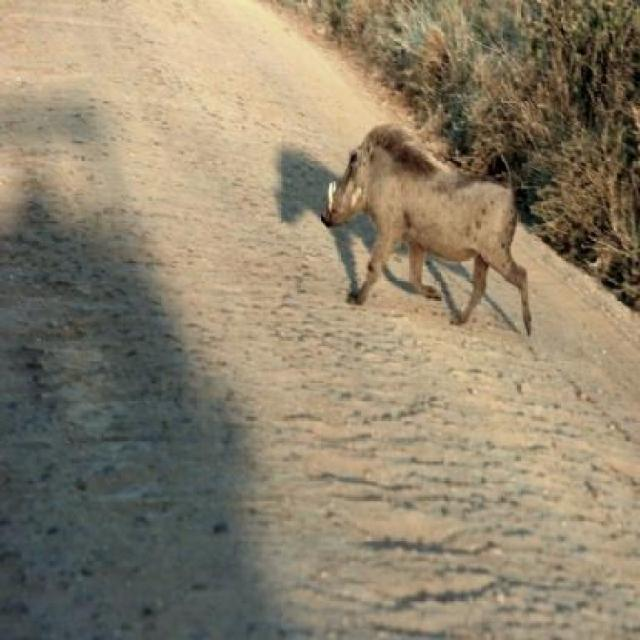Boar: (318, 124, 534, 338)
